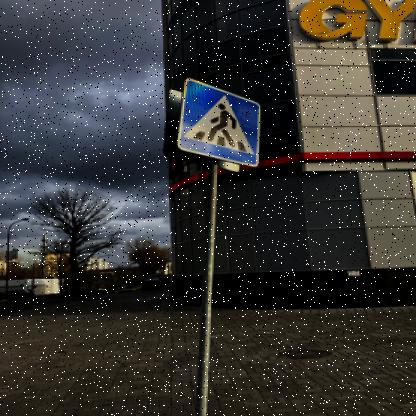crosswalk: (176, 78, 258, 166)
